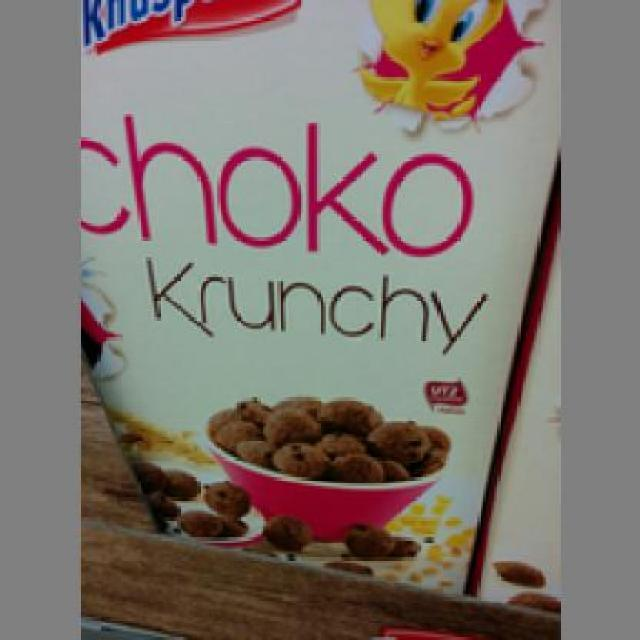Cereal: (77, 0, 554, 589)
